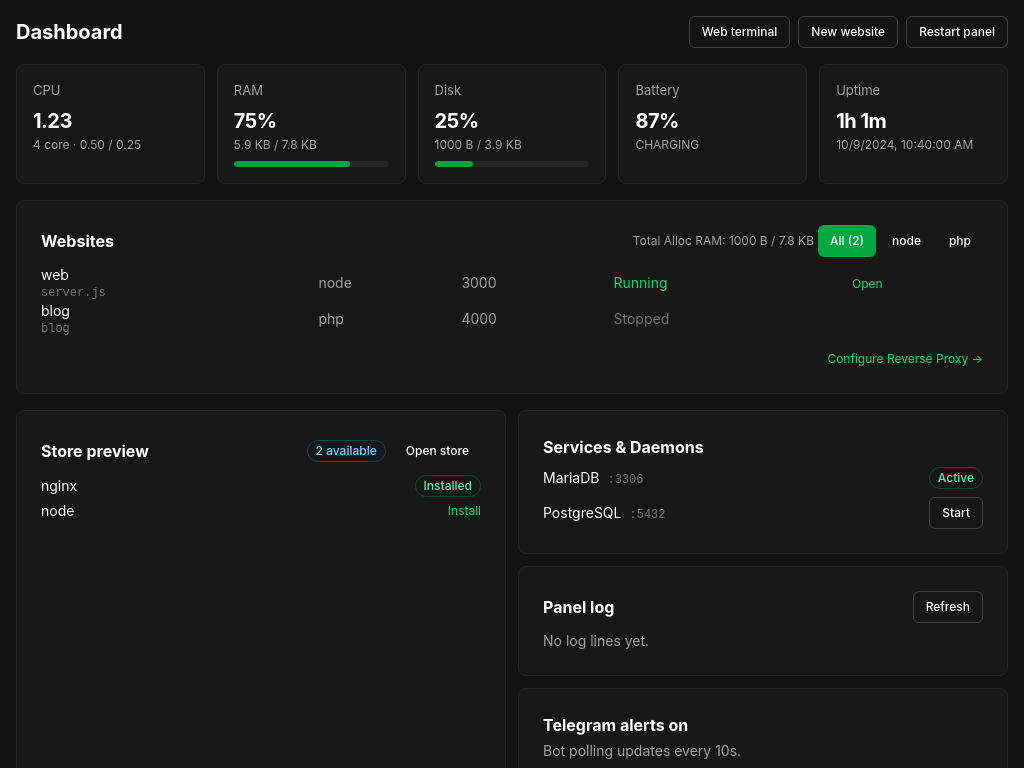
web dashboard page › reports manual restart on poll timeout
Step 1. Click the button "Restart panel" → (957, 32), box [906,16,1008,48]
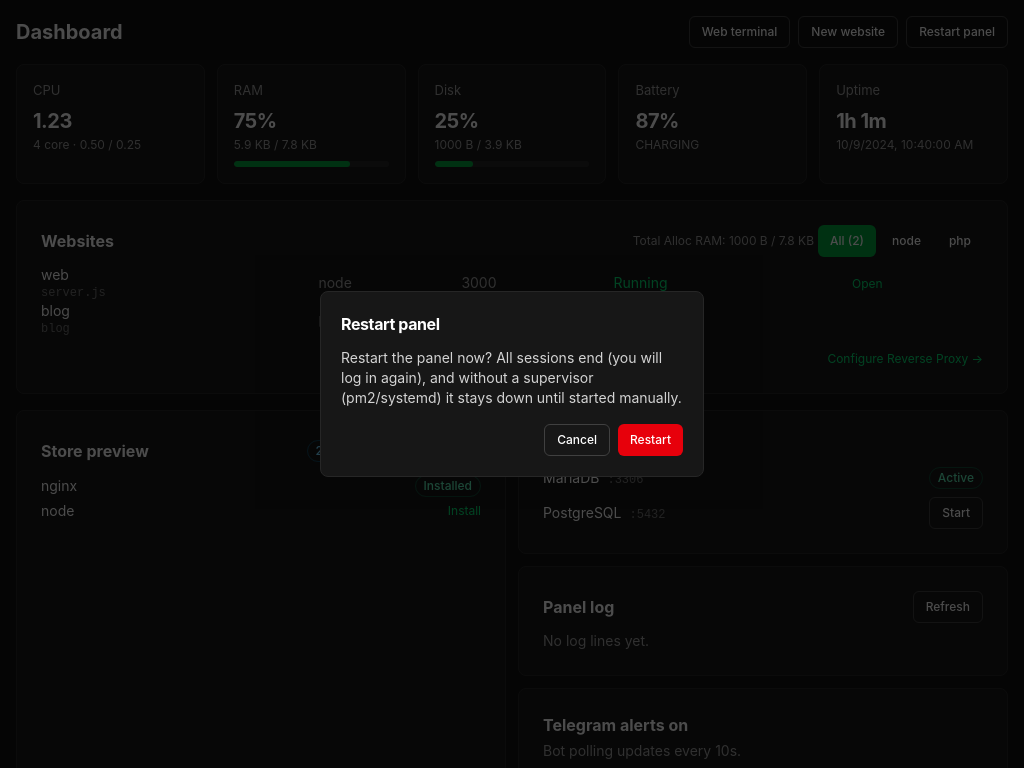
Step 2. Click the button "Restart" → (650, 440), box [618,424,683,456]
Wait 30000 ms
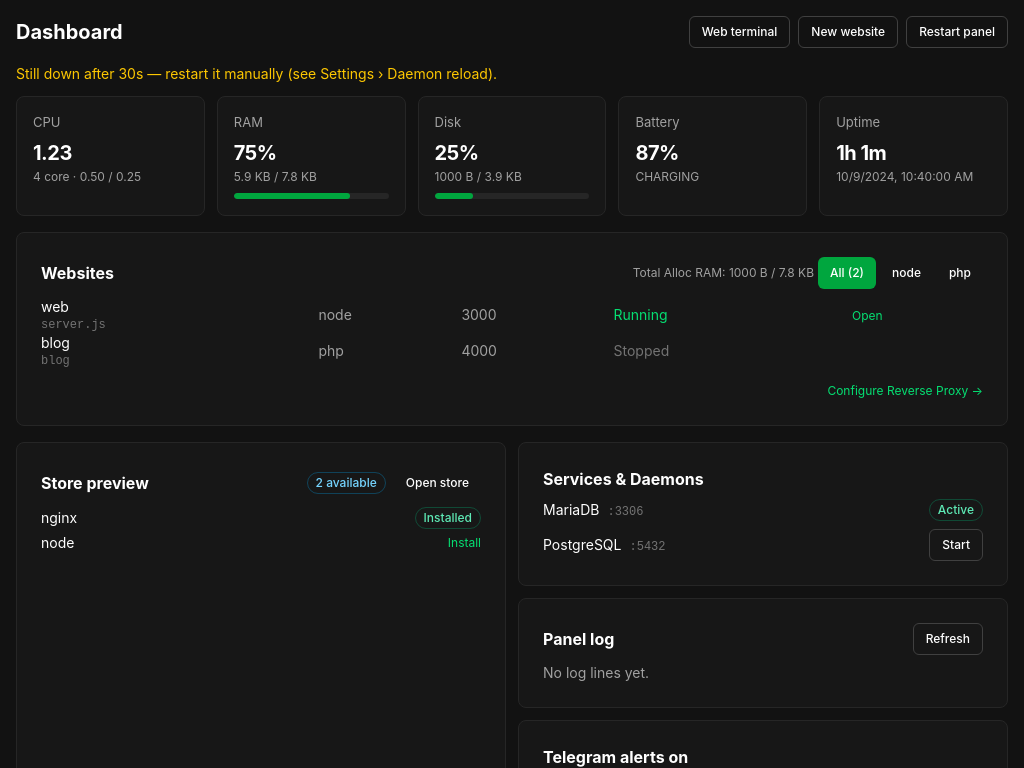
Check: the text "Still down after 30s — restart it manually (see Settings › Daemon reload)." is shown, box [16,65,497,82]
